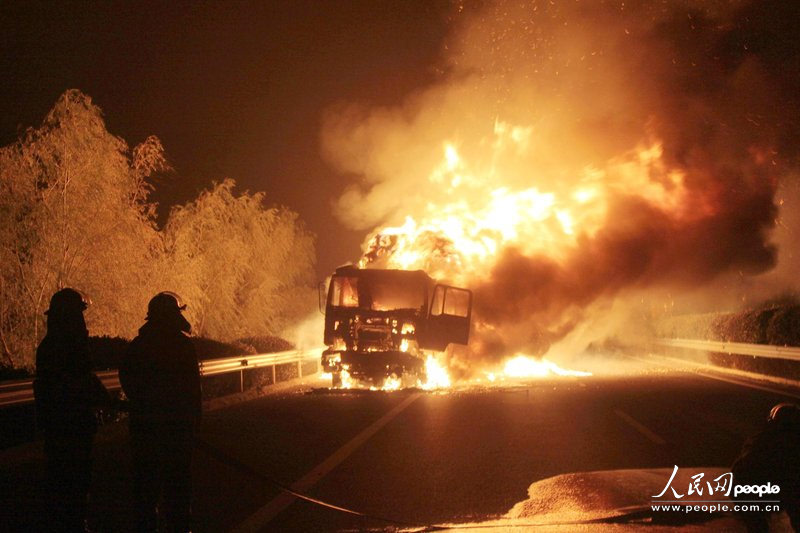fire: (393, 150, 652, 278)
